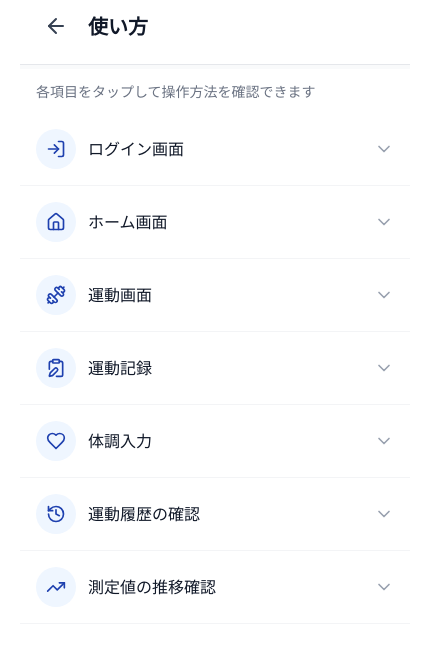
Test case: UserGuide（使い方） › accordion interaction › should collapse section when clicked again
Step 1. Click the button "ログイン画面" → click(56, 149), box [20, 113, 410, 185]
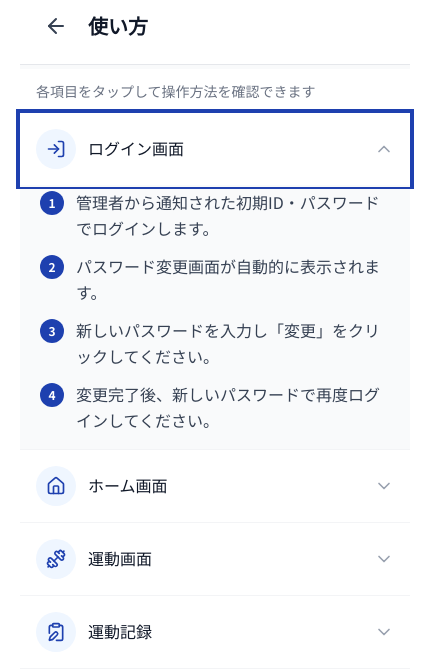
Expected: the text "管理者から通知された初期ID・パスワードでログインします。" is shown, [76, 189, 394, 241]
Step 2. Click the button "ログイン画面" → click(56, 149), box [20, 113, 410, 185]
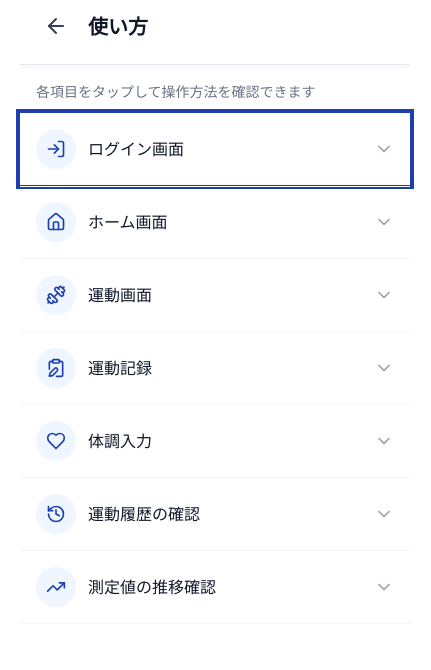
Expected: the text "管理者から通知された初期ID" is gone
